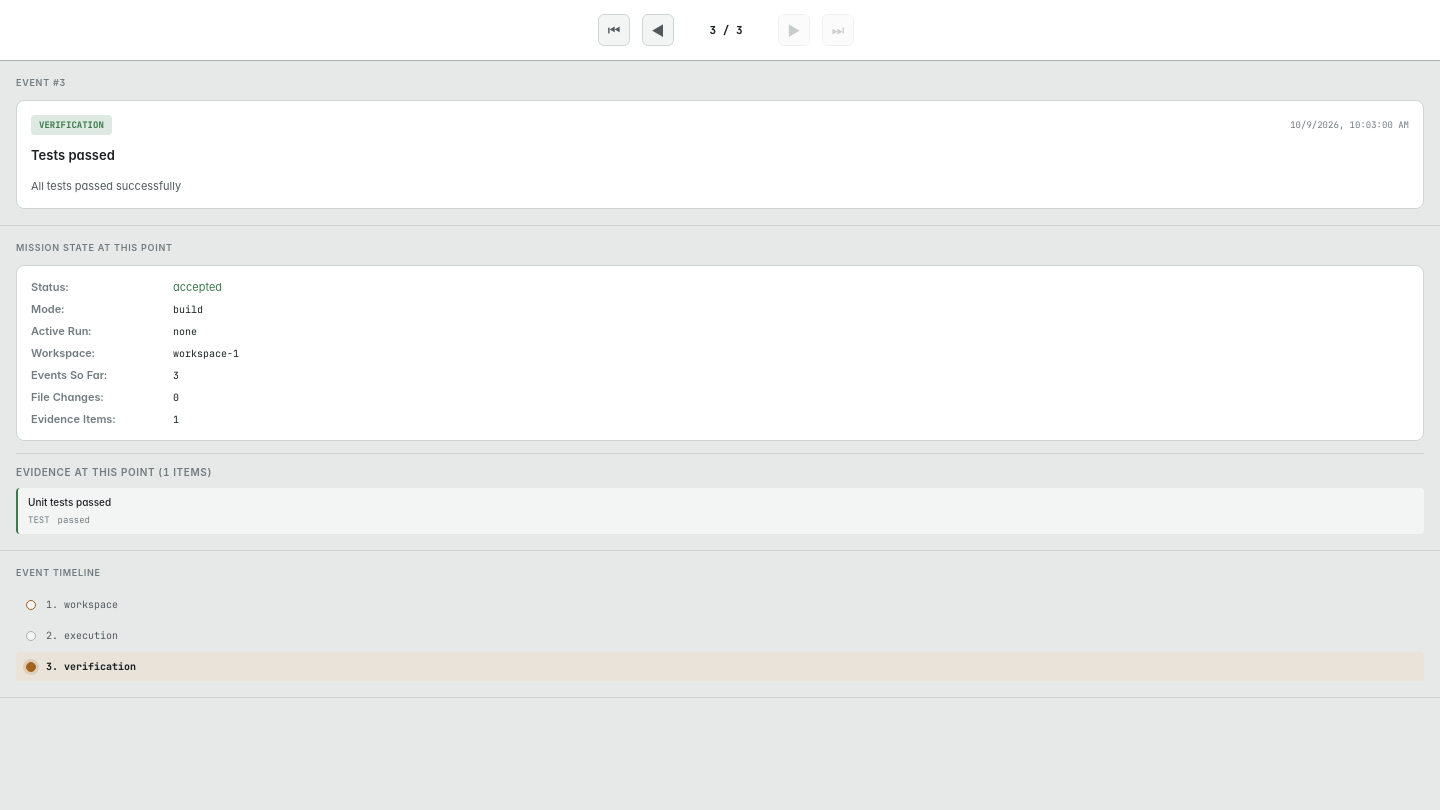
Scenario: MissionReplayDebugger › navigates backward through events
Expected: the text "3 / 3" is shown, [710,23,742,37]
Expected: the text "Tests passed" is shown, [31,147,115,163]
Note: Go back one event
Click the button titled "Previous event". click: (658, 30)
box: [642,14,674,46]
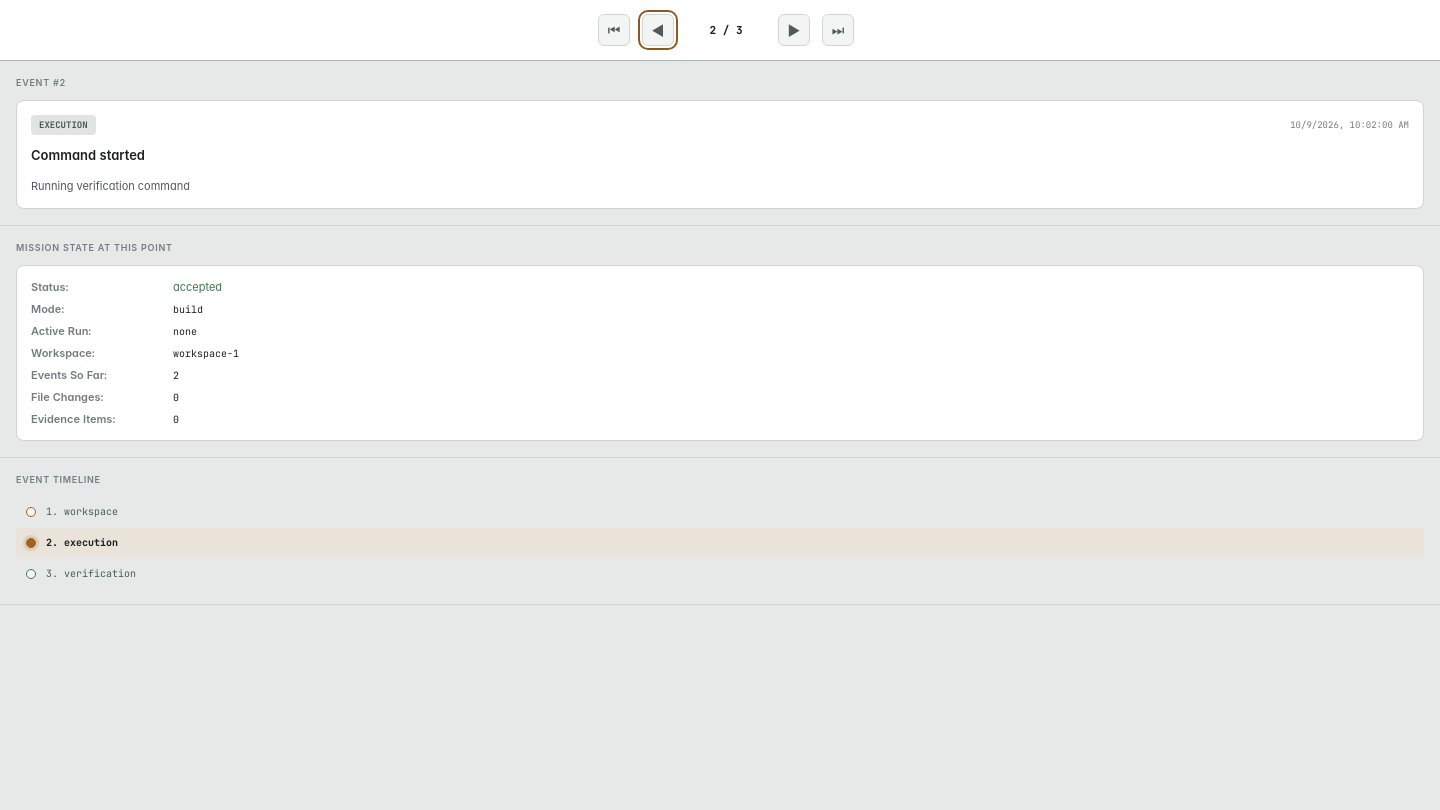
Now the text "2 / 3" is shown, box [710,23,742,37]
Now the text "Command started" is shown, box [31,147,145,163]
Note: Go back to first event
Click the button titled "Previous event". click: (658, 30)
box: [642,14,674,46]
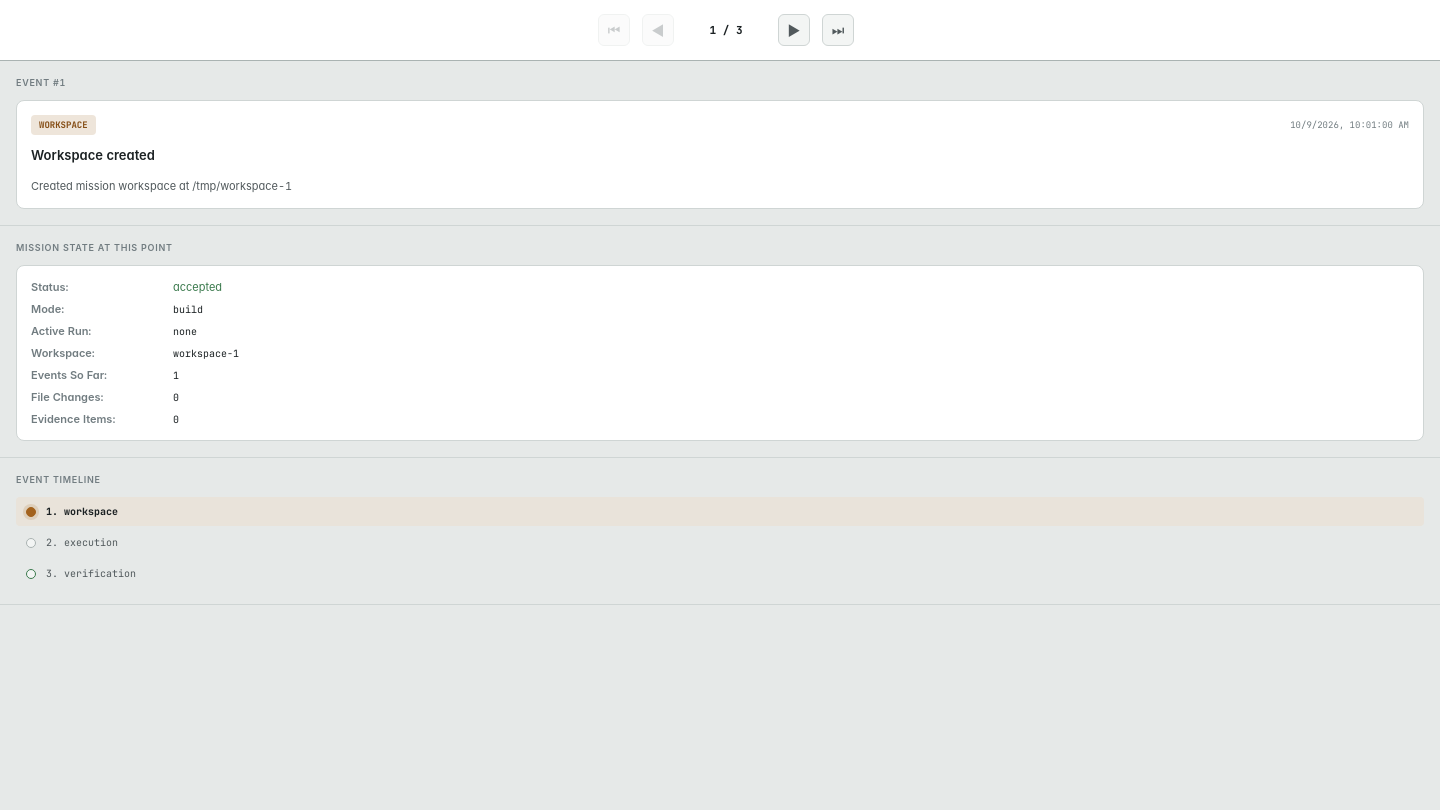
Now the text "1 / 3" is shown, box [710,23,742,37]
Now the text "Workspace created" is shown, box [31,147,155,163]
